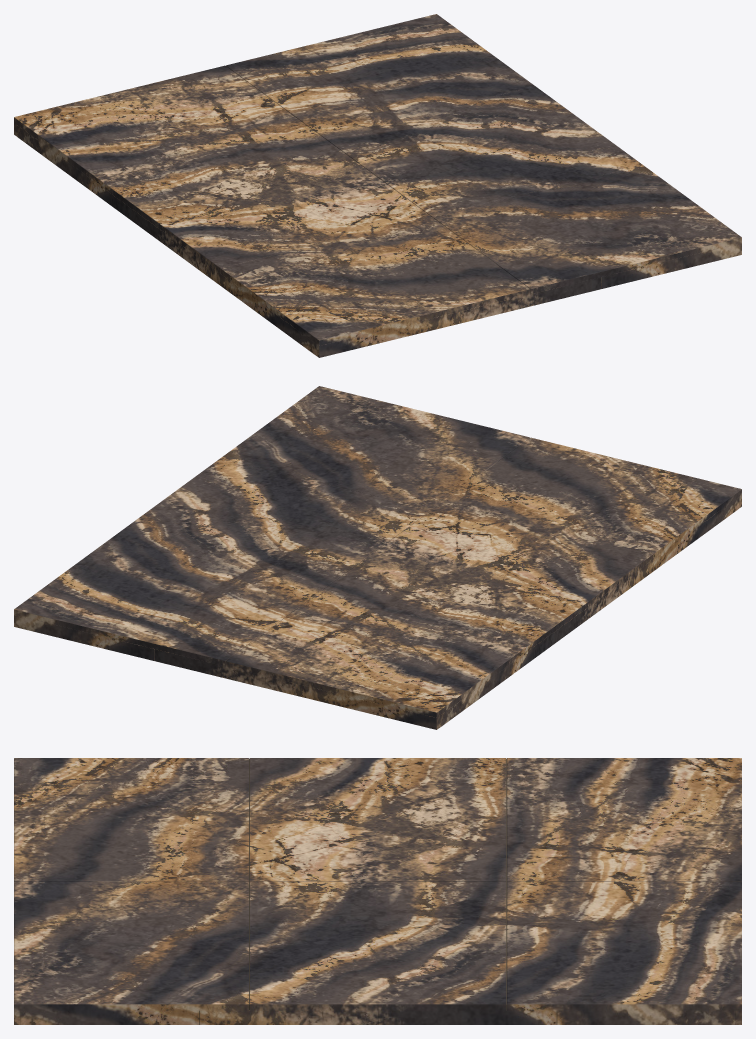
File: floor-amber-standard.glb
3 views of the same model, one above another, from view 1: azimuth 30°, elevation 25°; view 2: azimuth 150°, elevation 25°; view 3: azimuth 270°, elevation 25° (orthographic). The views are drawn at different scales.
Visible parts, largest first — view 1: Stone_field_amber, Stone_edge_amber; view 2: Stone_field_amber, Stone_edge_amber; view 3: Stone_field_amber, Stone_edge_amber, Joint_and_bedding_amber.
Boxes of the visible parts, x1,y1,x2,y2 form: Stone_field_amber: [14, 14, 741, 345]; Stone_edge_amber: [14, 123, 741, 357]; Stone_field_amber: [14, 386, 741, 717]; Stone_edge_amber: [14, 495, 741, 729]; Stone_field_amber: [14, 758, 741, 1010]; Stone_edge_amber: [14, 1010, 741, 1024]; Joint_and_bedding_amber: [199, 758, 556, 1024].
Bounding box in the file's own units: 2.4 × 0.096 × 3.
3 materials, 2 textured.
